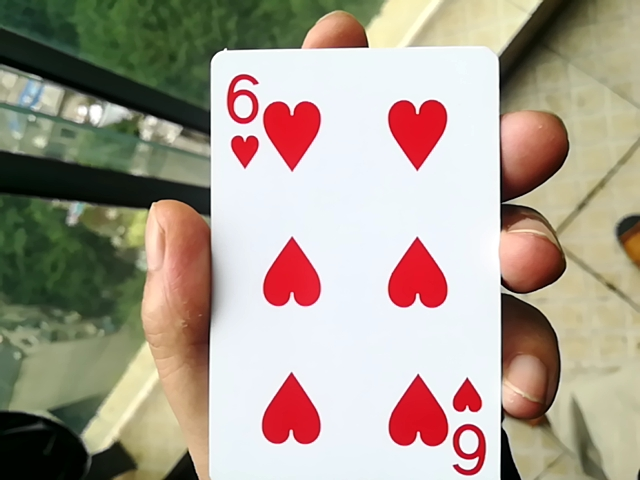hx 6: (195, 29, 510, 480)
